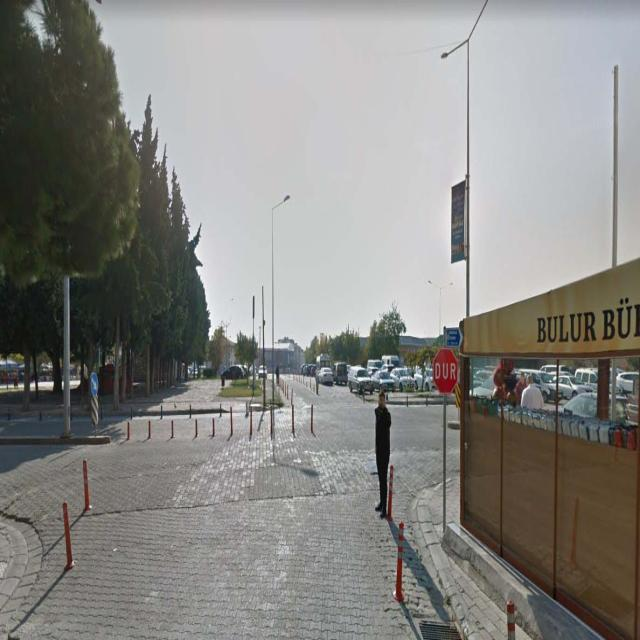dur: (431, 346, 457, 401)
